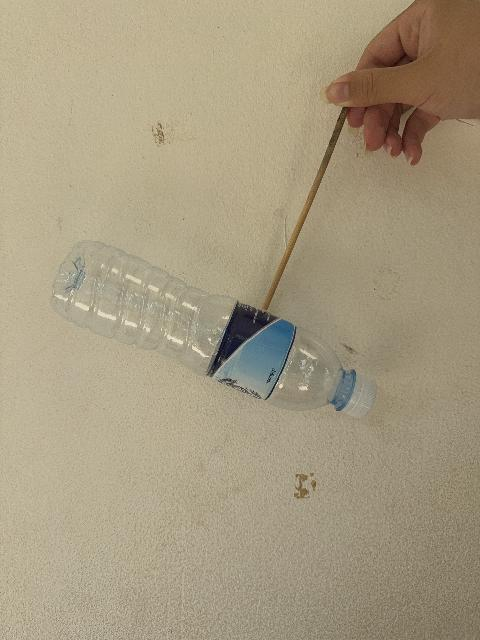bottle: (52, 241, 376, 417)
